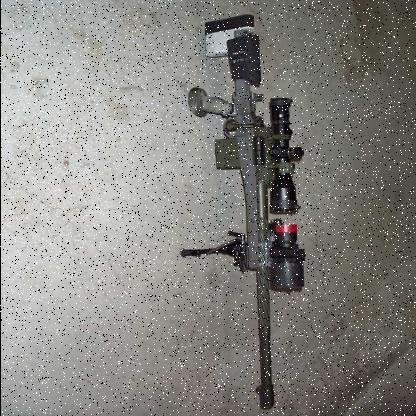rifle: (151, 17, 328, 414)
